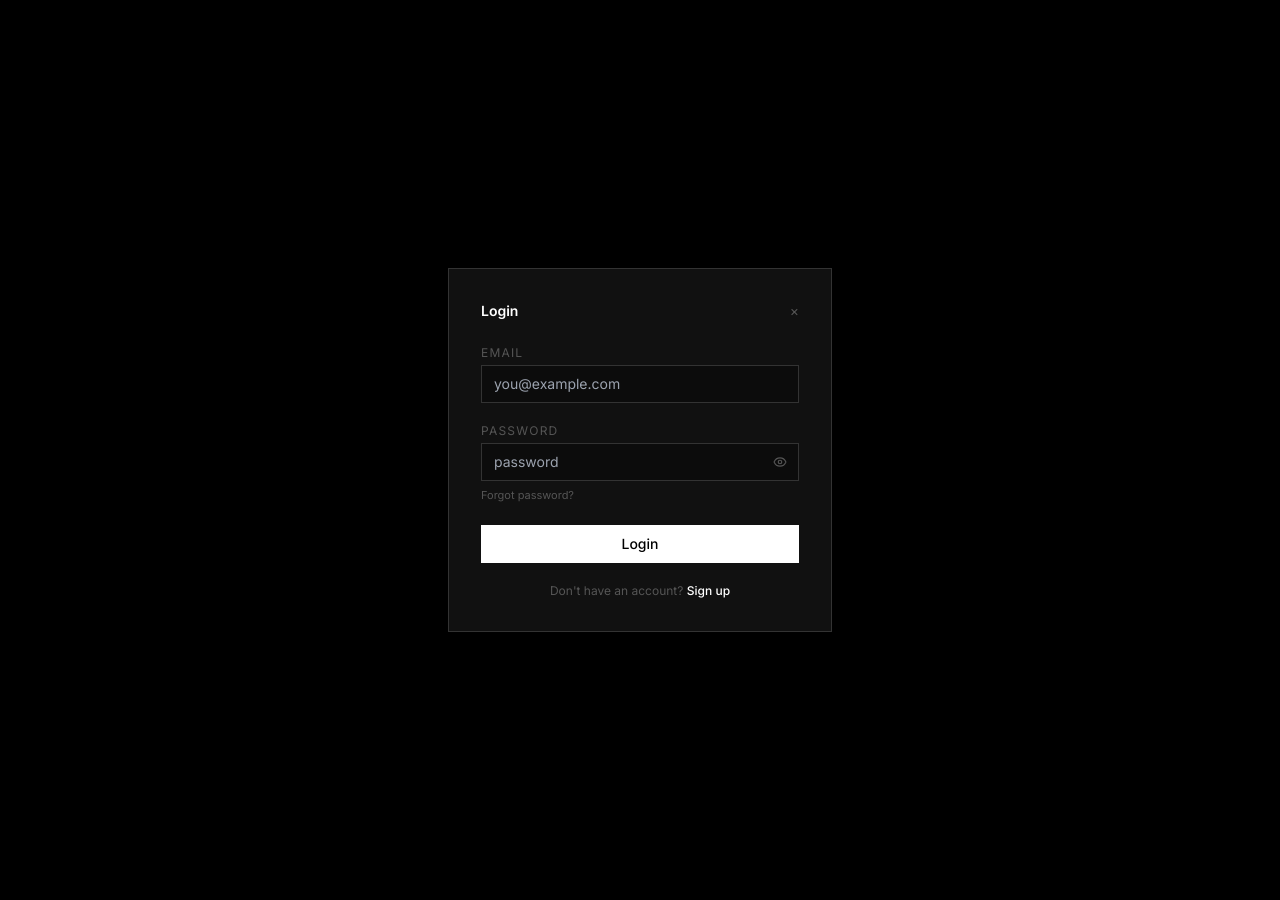
Test case: AuthModal › shows a connection message when there is no response (timeout/offline)
The width and height of the screenshot is (1280, 900).
Type "user@example.com" into the field with placeholder "you@example.com" at (640,384), box [481,365,799,403]
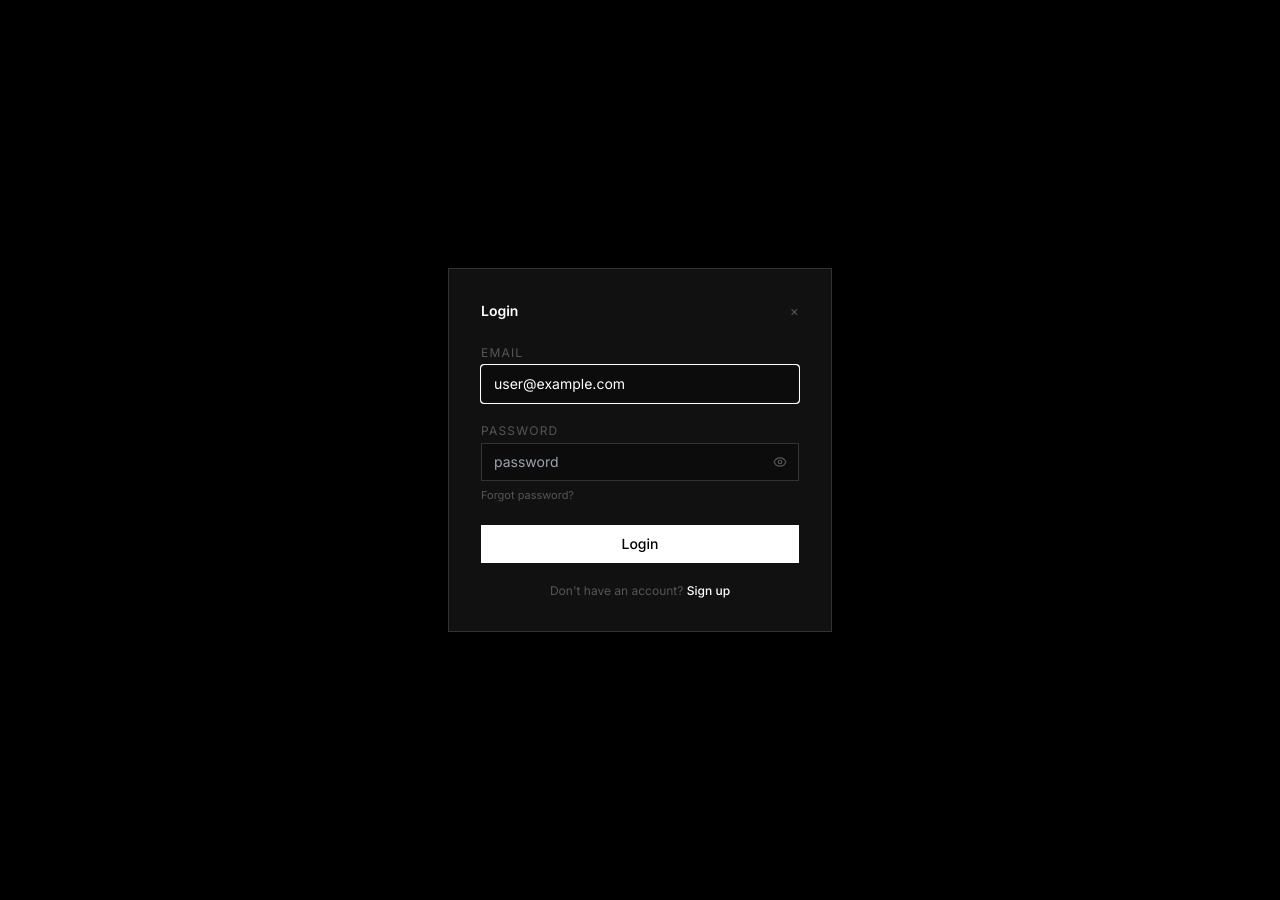
Type "correctpass1" into the password field with placeholder "password" at (640,462), box [481,443,799,481]
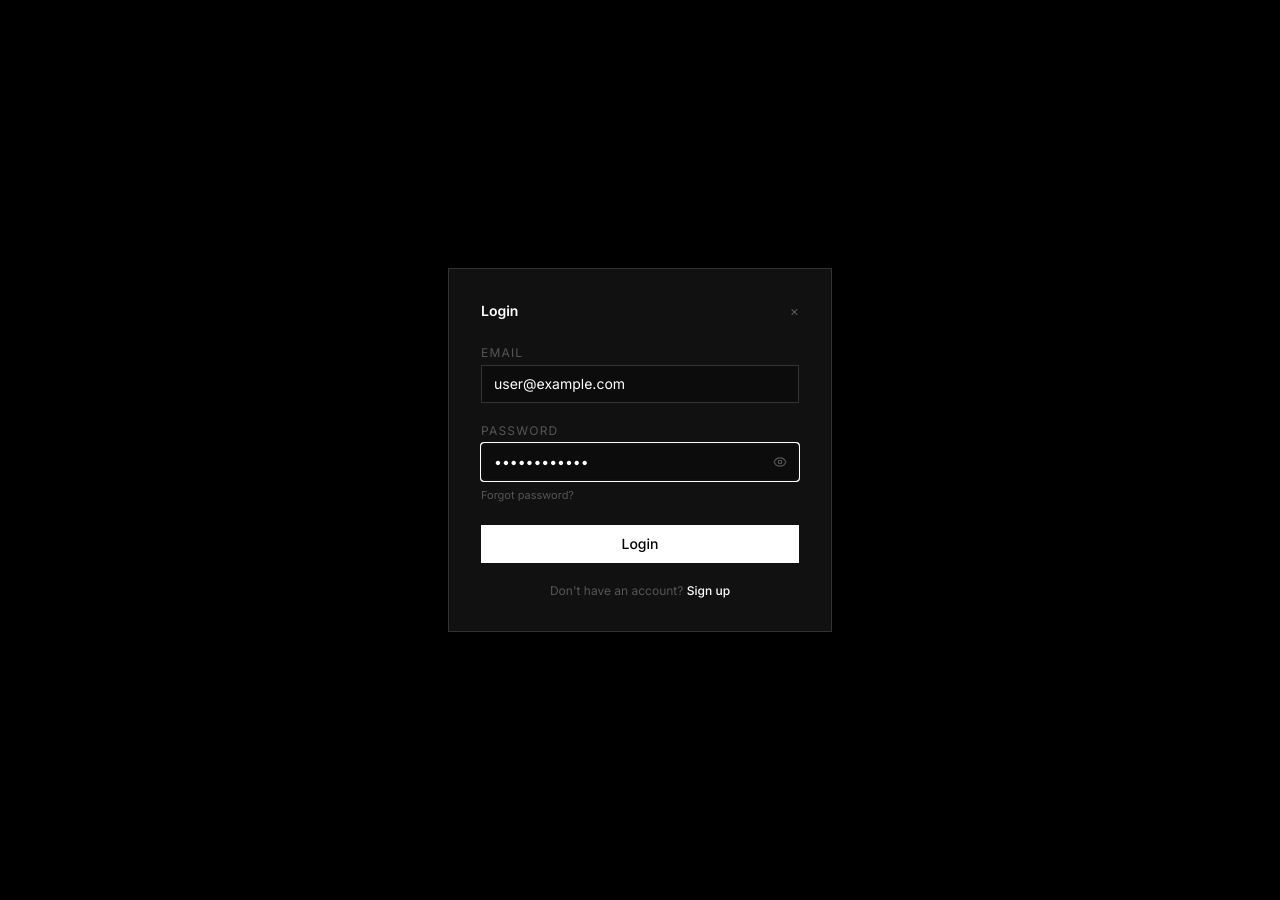
Click the button "Login" at (640,544), box [481,525,799,563]
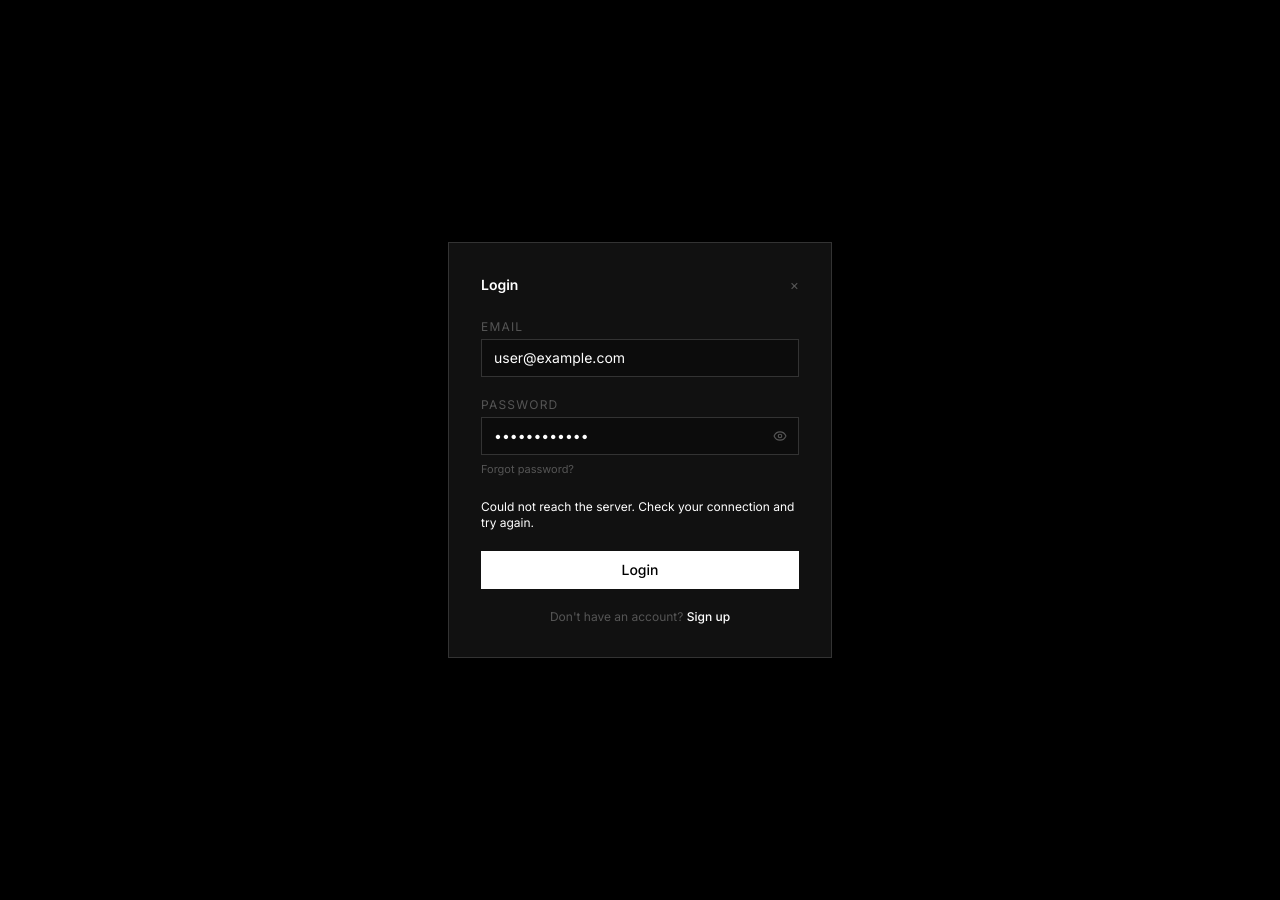
Check: the text "Could not reach the server. Check your connection and try again." is shown, box [481,499,799,531]
